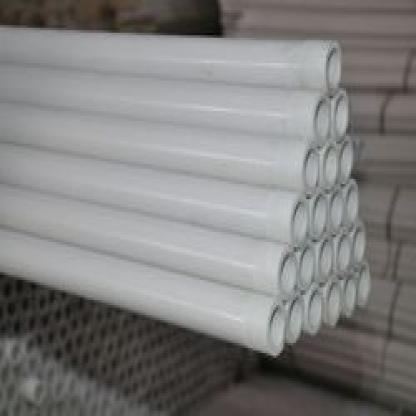PVC: (222, 1, 414, 408), (1, 227, 287, 356), (0, 181, 299, 298), (0, 139, 311, 249), (3, 280, 252, 413), (0, 101, 321, 196), (0, 59, 328, 146), (1, 25, 342, 96), (317, 136, 342, 191), (330, 89, 353, 147), (344, 219, 372, 264), (301, 282, 324, 334), (332, 230, 353, 278), (286, 295, 306, 344), (338, 182, 361, 224), (323, 278, 342, 328), (353, 261, 373, 306), (315, 233, 335, 278), (337, 137, 357, 182), (311, 192, 333, 232), (328, 184, 346, 231), (298, 246, 319, 285), (341, 272, 357, 319)
